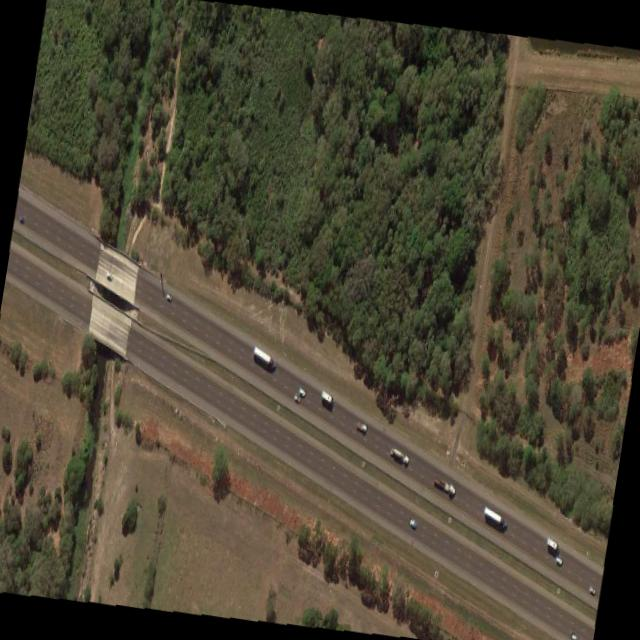large-vehicle: (483, 502, 508, 528), (253, 345, 277, 369), (389, 444, 410, 464), (546, 534, 560, 554), (356, 418, 368, 436), (321, 390, 333, 406)
small-vehicle: (587, 580, 597, 598), (408, 514, 418, 530), (299, 384, 307, 401), (554, 552, 564, 565), (294, 390, 301, 405), (106, 268, 114, 281), (18, 212, 27, 223), (570, 629, 579, 640), (165, 290, 172, 302)
